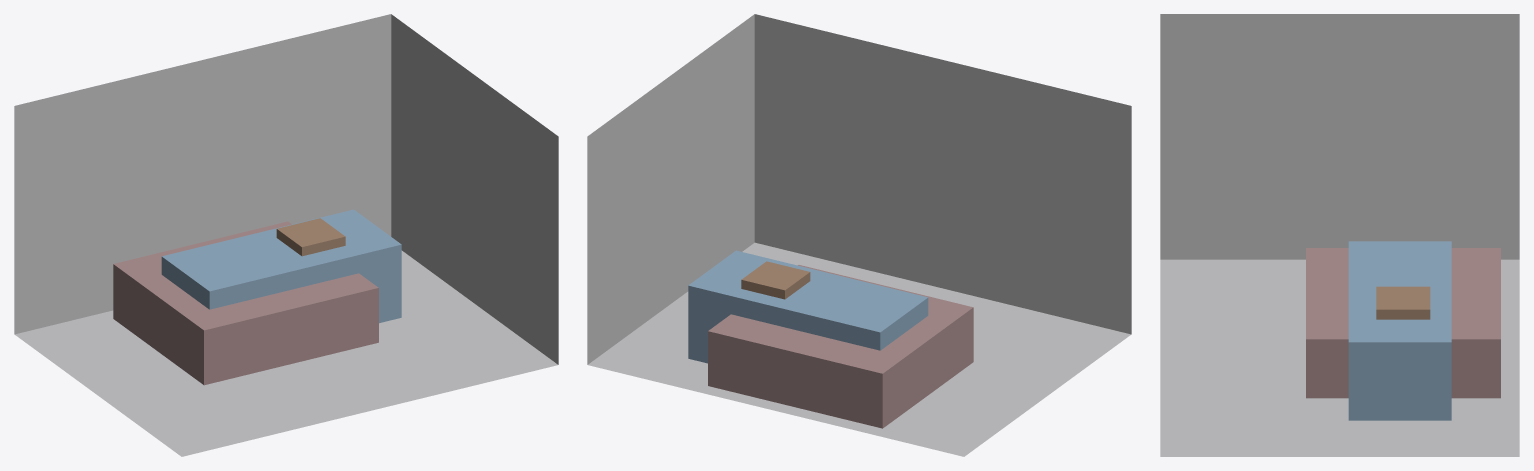
Rendered from optimised_layout.glb.
3 renders of one model, left to right at view 1: azimuth 30°, elevation 25°; view 2: azimuth 150°, elevation 25°; view 3: azimuth 270°, elevation 25°, orthographic. The views are drawn at different scales.
Parts seen in each view (by area): view 1: room, bed, couch, chair; view 2: room, bed, couch, chair; view 3: room, couch, bed, chair.
Boxes of the visible parts, bbox=[...] form: room: bbox=[14, 14, 558, 456]; bed: bbox=[113, 221, 378, 385]; couch: bbox=[161, 209, 401, 323]; chair: bbox=[276, 218, 345, 256]; room: bbox=[587, 14, 1131, 456]; bed: bbox=[708, 265, 973, 428]; couch: bbox=[688, 250, 928, 363]; chair: bbox=[741, 261, 810, 299]; room: bbox=[1160, 14, 1519, 456]; couch: bbox=[1348, 241, 1451, 420]; bed: bbox=[1306, 248, 1500, 398]; chair: bbox=[1376, 286, 1430, 319].
Size of the model in its own units: 4.31 by 2.5 by 3.32.
